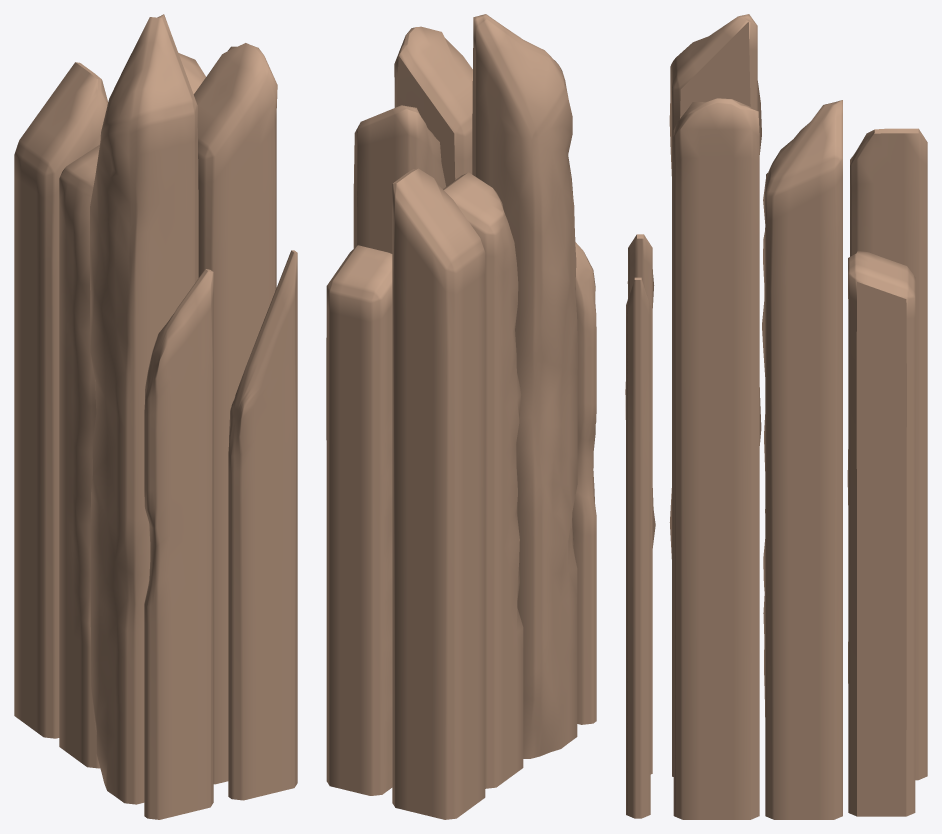
Rendered from SM_Crystalwalpart_001.FBX.
3 views of the same model, side by side, from view 1: azimuth 30°, elevation 25°; view 2: azimuth 150°, elevation 25°; view 3: azimuth 270°, elevation 25° (orthographic). The views are drawn at different scales.
Parts seen in each view (by area): view 1: SM_Crystalwallpart_001, SM_Crystalwallpart_002, SM_Crystalwallpart_006, SM_Crystalwallpart_007, SM_Crystalwallpart_003, SM_Crystalwallpart_004, SM_Crystalwallpart_005; view 2: SM_Crystalwallpart_007, SM_Crystalwallpart_001, SM_Crystalwallpart_008, SM_Crystalwallpart_004, SM_Crystalwallpart_002, SM_Crystalwallpart_005, SM_Crystalwallpart_003; view 3: SM_Crystalwallpart_003, SM_Crystalwallpart_005, SM_Crystalwallpart_008, SM_Crystalwallpart_007, SM_Crystalwallpart_006, SM_Crystalwallpart_001, SM_Crystalwallpart_002.
Boxes of the visible parts, x1=… form: SM_Crystalwallpart_001: x1=90, y1=14, x2=198, y2=804; SM_Crystalwallpart_002: x1=144, y1=269, x2=213, y2=819; SM_Crystalwallpart_006: x1=228, y1=250, x2=297, y2=800; SM_Crystalwallpart_007: x1=14, y1=62, x2=108, y2=738; SM_Crystalwallpart_003: x1=193, y1=43, x2=277, y2=784; SM_Crystalwallpart_004: x1=59, y1=144, x2=100, y2=768; SM_Crystalwallpart_005: x1=178, y1=53, x2=205, y2=94; SM_Crystalwallpart_007: x1=392, y1=168, x2=485, y2=819; SM_Crystalwallpart_001: x1=472, y1=14, x2=577, y2=758; SM_Crystalwallpart_008: x1=326, y1=245, x2=392, y2=795; SM_Crystalwallpart_004: x1=443, y1=172, x2=523, y2=788; SM_Crystalwallpart_002: x1=572, y1=242, x2=596, y2=724; SM_Crystalwallpart_005: x1=353, y1=105, x2=446, y2=253; SM_Crystalwallpart_003: x1=394, y1=26, x2=472, y2=186; SM_Crystalwallpart_003: x1=673, y1=98, x2=759, y2=819; SM_Crystalwallpart_005: x1=762, y1=100, x2=842, y2=819; SM_Crystalwallpart_008: x1=847, y1=250, x2=915, y2=816; SM_Crystalwallpart_007: x1=850, y1=128, x2=927, y2=780; SM_Crystalwallpart_006: x1=625, y1=277, x2=650, y2=818; SM_Crystalwallpart_001: x1=669, y1=14, x2=761, y2=776; SM_Crystalwallpart_002: x1=627, y1=234, x2=655, y2=774.
Bounding box in the file's own units: 1290 × 5771 × 2078.
